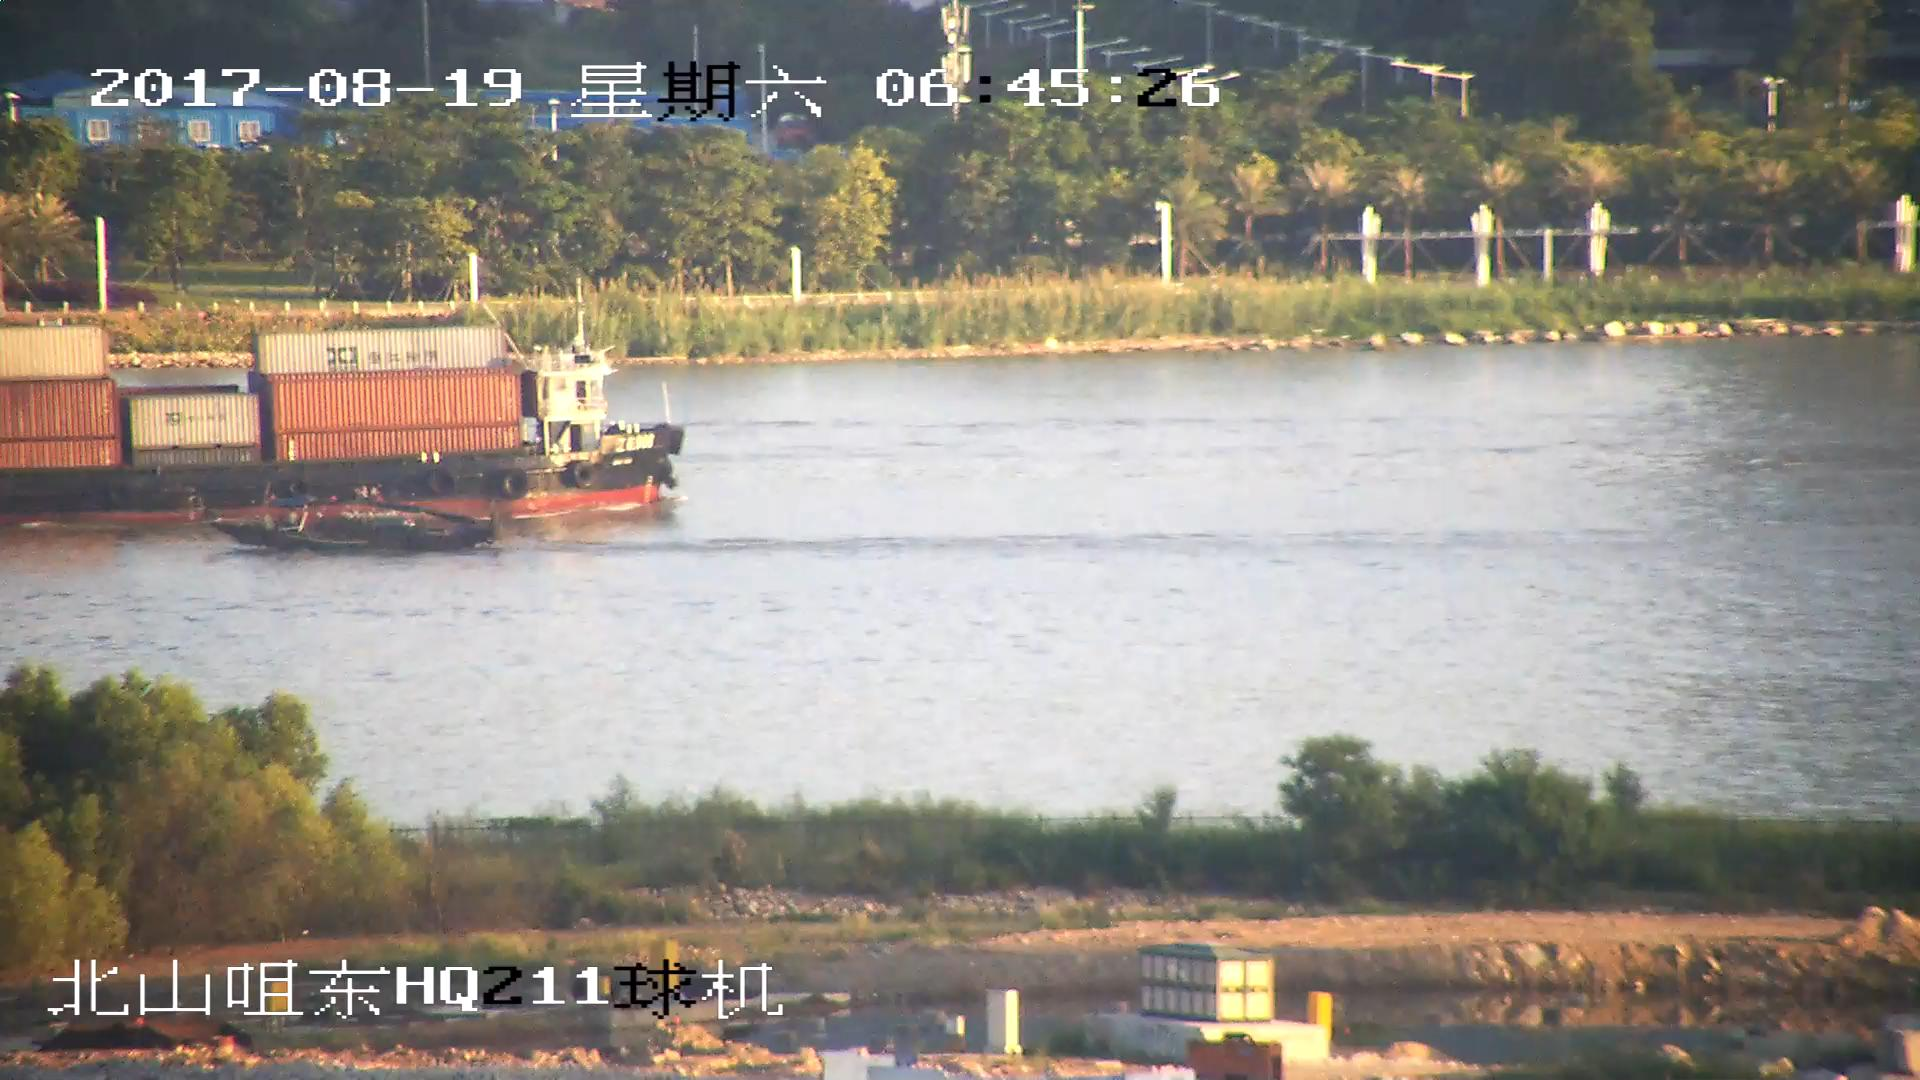container ship: (1, 310, 678, 526)
fishing boat: (224, 512, 499, 560)
